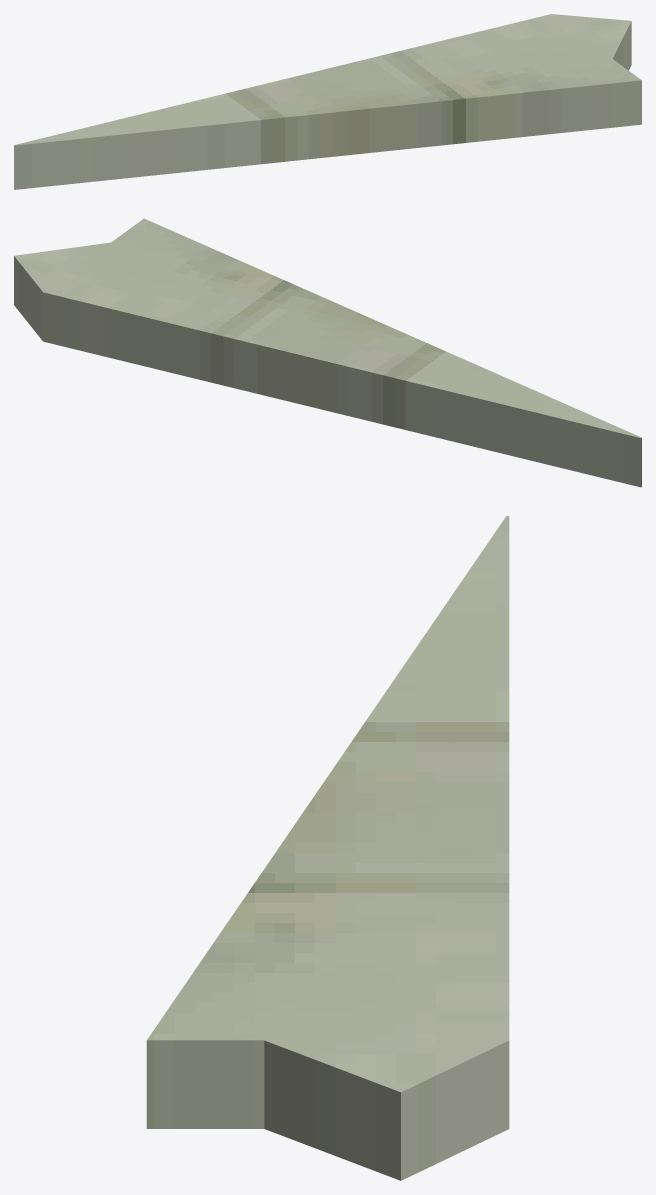
The model's file is 179_DP_housetriangle1.gltf.
The picture shows the model from 3 angles, top to bottom: view 1: azimuth 30°, elevation 25°; view 2: azimuth 150°, elevation 25°; view 3: azimuth 270°, elevation 25°; orthographic projection. The views are drawn at different scales.
Visible parts, largest first — view 1: DP_housetriangle1; view 2: DP_housetriangle1; view 3: DP_housetriangle1.
Boxes of the visible parts, x1=… form: DP_housetriangle1: x1=14, y1=14, x2=641, y2=189; DP_housetriangle1: x1=14, y1=218, x2=641, y2=487; DP_housetriangle1: x1=146, y1=516, x2=509, y2=1180.
Size of the model in its own units: 11.93 by 0.8549 by 3.17.
1 material, 1 textured.
